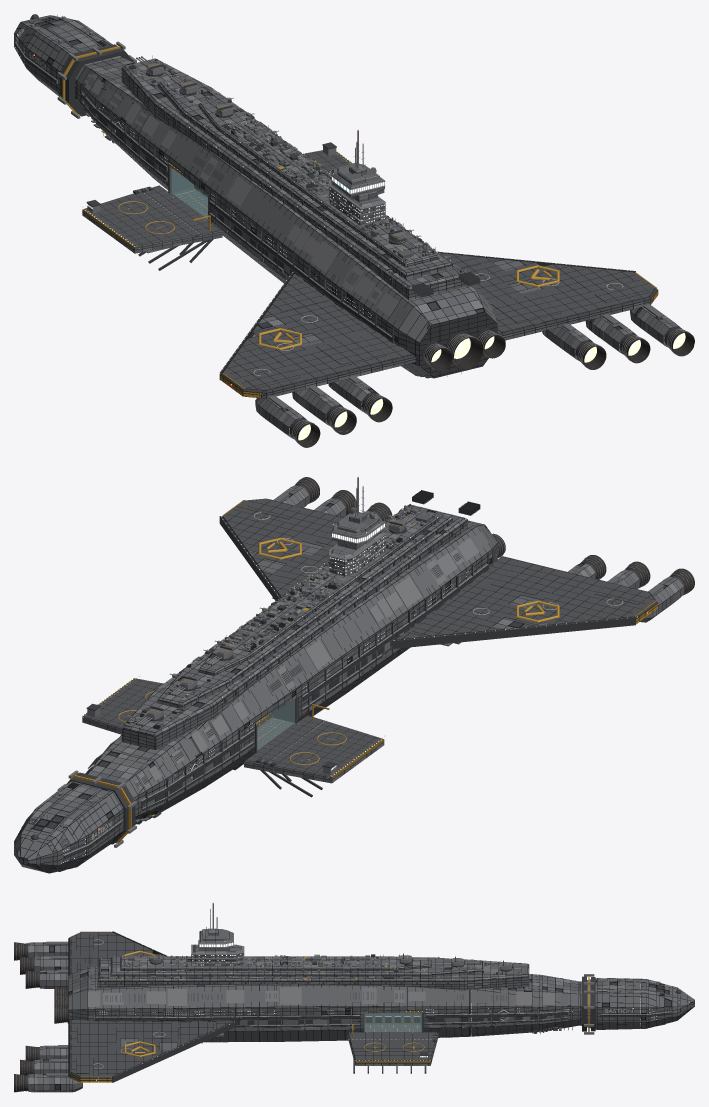
Rendered from Carrier.3186ffd4fa.glb.
3 views of the same model, one above another, from view 1: azimuth 30°, elevation 25°; view 2: azimuth 150°, elevation 25°; view 3: azimuth 270°, elevation 25° (orthographic). The views are drawn at different scales.
Visible parts, largest first — view 1: Aufbauten.001, Fluegel Backbord.001, Bruecke.001, Duesenglocke.009, Flugdeck.001, Glutscheibe.009, Hangar innen.002; view 2: Aufbauten.001, Fluegel Backbord.001, Bruecke.001, Flugdeck.001, Duesenglocke.009, Hangar innen.002; view 3: Aufbauten.001, Bruecke.001, Fluegel Backbord.001, Duesenglocke.009, Flugdeck.001, Hangar innen.002, Fenster.001.
Part boxes in pixels (x1=…): Aufbauten.001: x1=14, y1=14, x2=690, y2=445; Fluegel Backbord.001: x1=84, y1=150, x2=654, y2=389; Bruecke.001: x1=14, y1=16, x2=681, y2=436; Duesenglocke.009: x1=291, y1=328, x2=694, y2=447; Flugdeck.001: x1=29, y1=52, x2=656, y2=388; Glutscheibe.009: x1=298, y1=333, x2=685, y2=439; Hangar innen.002: x1=172, y1=169, x2=207, y2=218; Aufbauten.001: x1=14, y1=477, x2=693, y2=873; Fluegel Backbord.001: x1=83, y1=498, x2=655, y2=777; Bruecke.001: x1=14, y1=486, x2=684, y2=873; Flugdeck.001: x1=82, y1=476, x2=656, y2=848; Duesenglocke.009: x1=296, y1=477, x2=694, y2=593; Hangar innen.002: x1=258, y1=700, x2=294, y2=747; Aufbauten.001: x1=16, y1=903, x2=694, y2=1092; Bruecke.001: x1=28, y1=929, x2=694, y2=1091; Fluegel Backbord.001: x1=70, y1=932, x2=438, y2=1076; Duesenglocke.009: x1=14, y1=942, x2=67, y2=1092; Flugdeck.001: x1=80, y1=902, x2=633, y2=1080; Hangar innen.002: x1=365, y1=1013, x2=420, y2=1031; Fenster.001: x1=78, y1=953, x2=687, y2=1057.
Size of the model in its own units: 536 by 230 by 1049.
